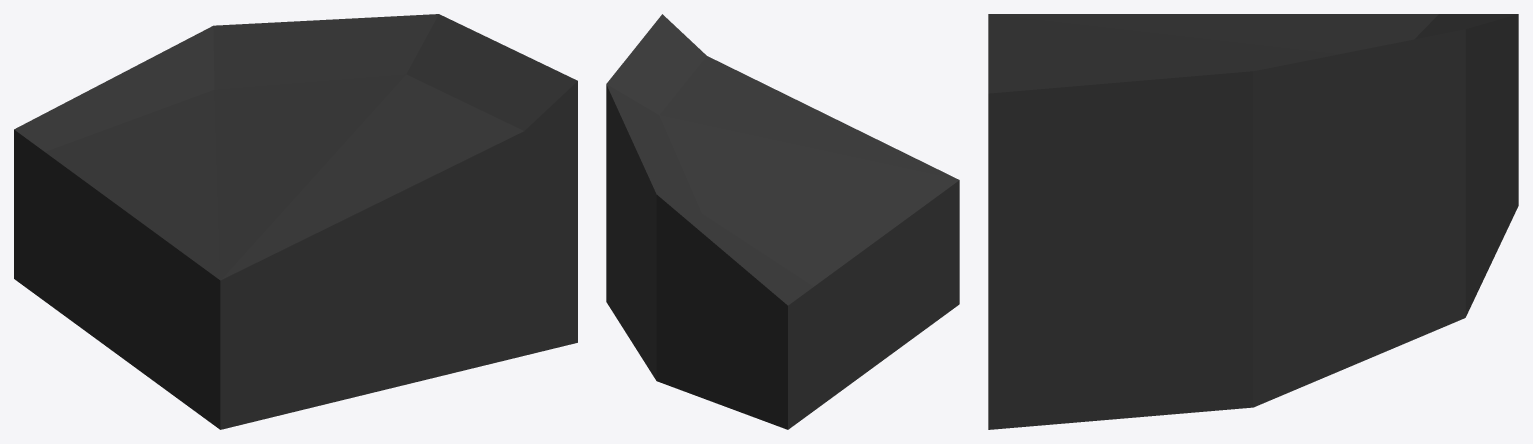
File: AsfaltoCurvo.fbx
The picture shows the model from 3 angles, left to right: view 1: azimuth 30°, elevation 25°; view 2: azimuth 150°, elevation 25°; view 3: azimuth 270°, elevation 25°; orthographic projection. The views are drawn at different scales.
Parts seen in each view (by area): view 1: AsfaltoCurvo; view 2: AsfaltoCurvo; view 3: AsfaltoCurvo.
Boxes of the visible parts, x1,y1,x2,y2 form: AsfaltoCurvo: [14, 14, 577, 429]; AsfaltoCurvo: [606, 14, 959, 429]; AsfaltoCurvo: [988, 14, 1518, 429].
Bounding box in the file's own units: 1000 × 700 × 1000.
